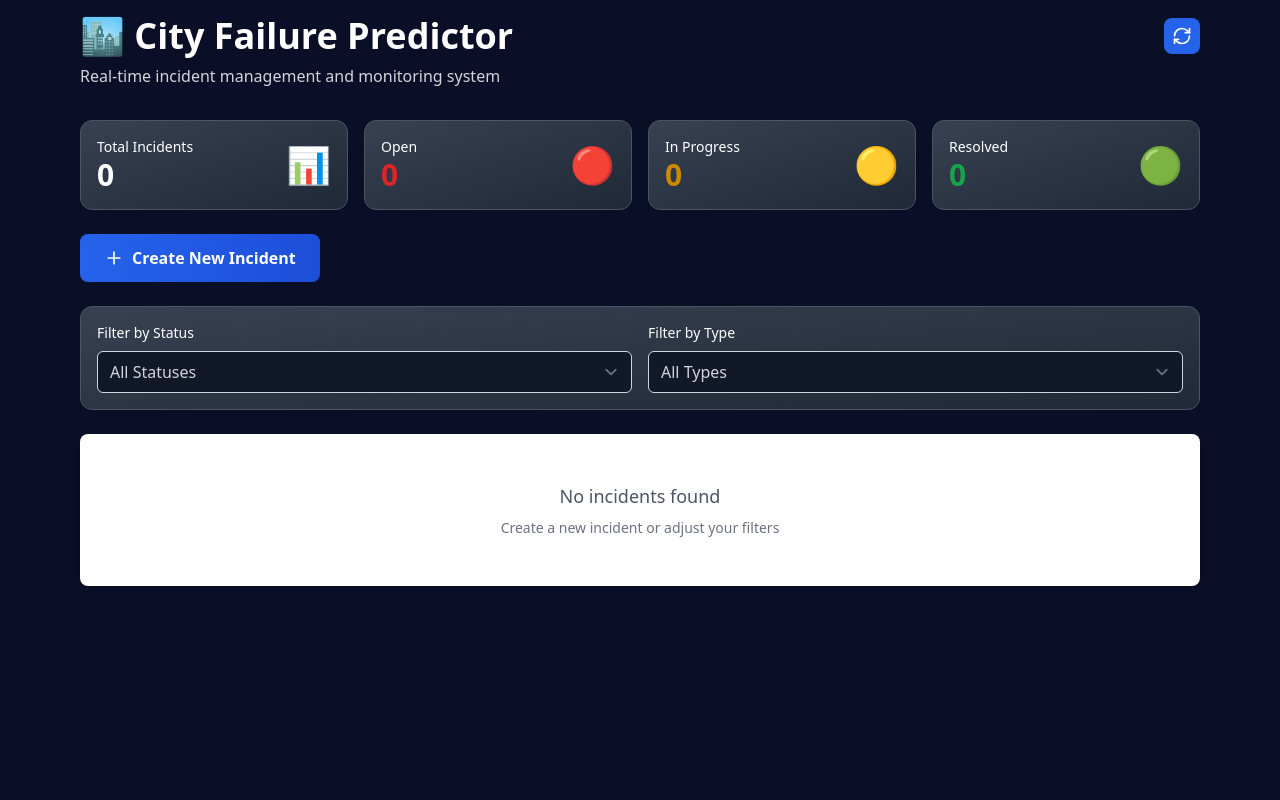
IncidentDashboard › opens the create incident modal
Step 1. Click the button "Create New Incident" → click(200, 258), box [80,234,320,282]
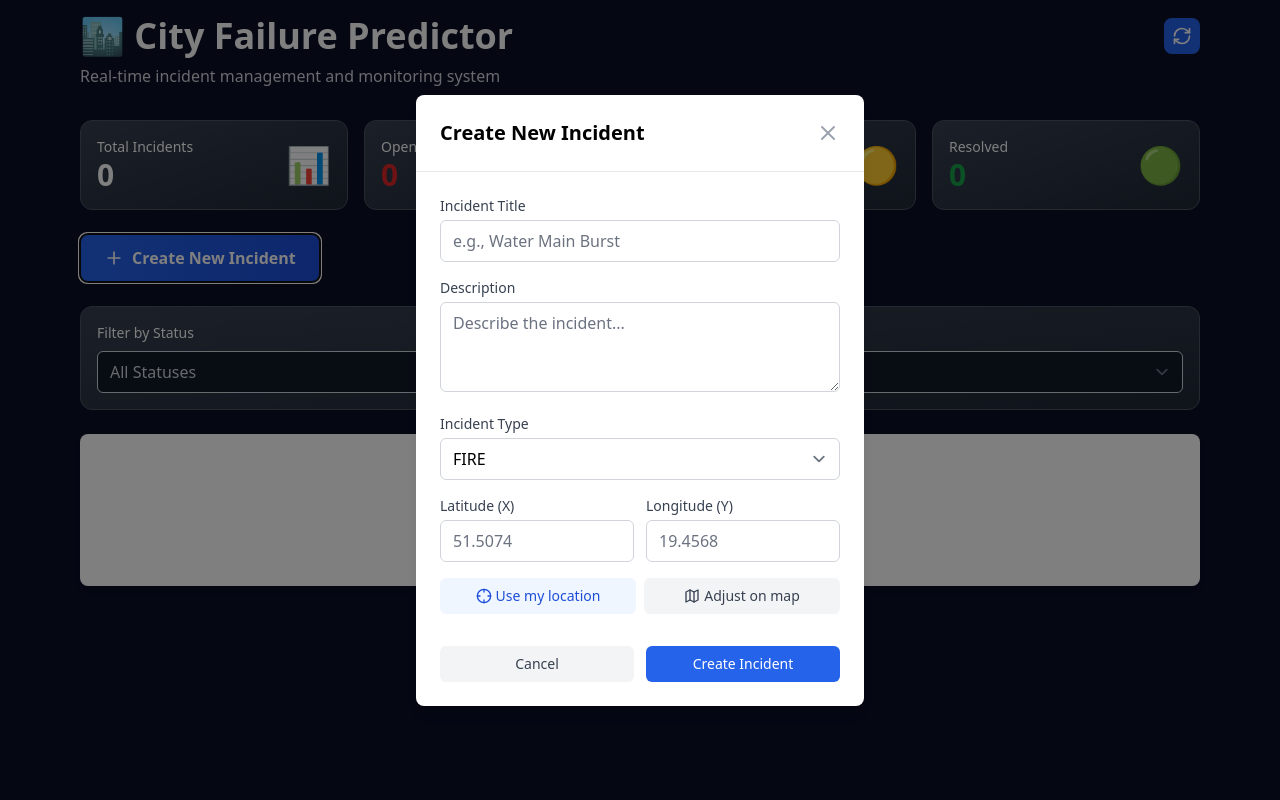
Result: the heading "Create New Incident" is shown at [440,118,645,146]
